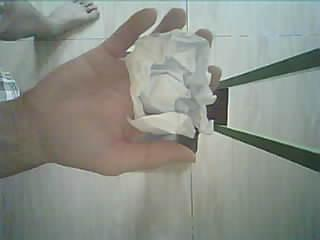paper: (16, 34, 158, 183)
